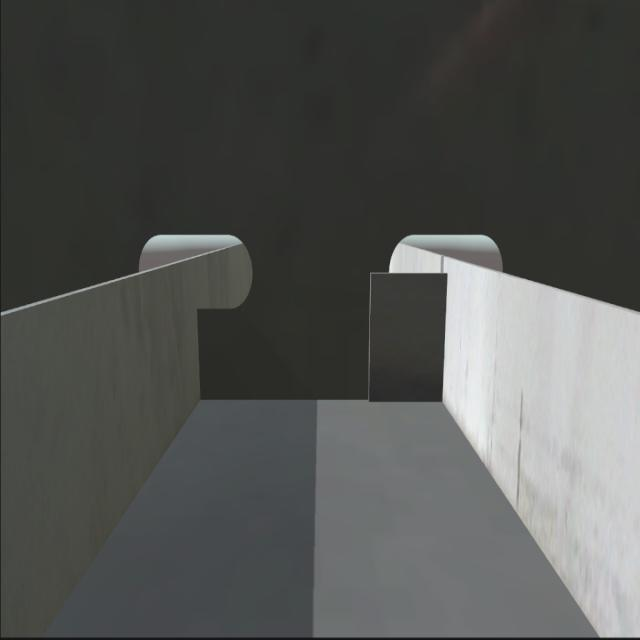fillet_yong_jeop_jang: (200, 388, 445, 408)
longi_yong_jeop_jang: (428, 266, 458, 400), (190, 304, 212, 404)
plate_CP01: (374, 266, 448, 401)
